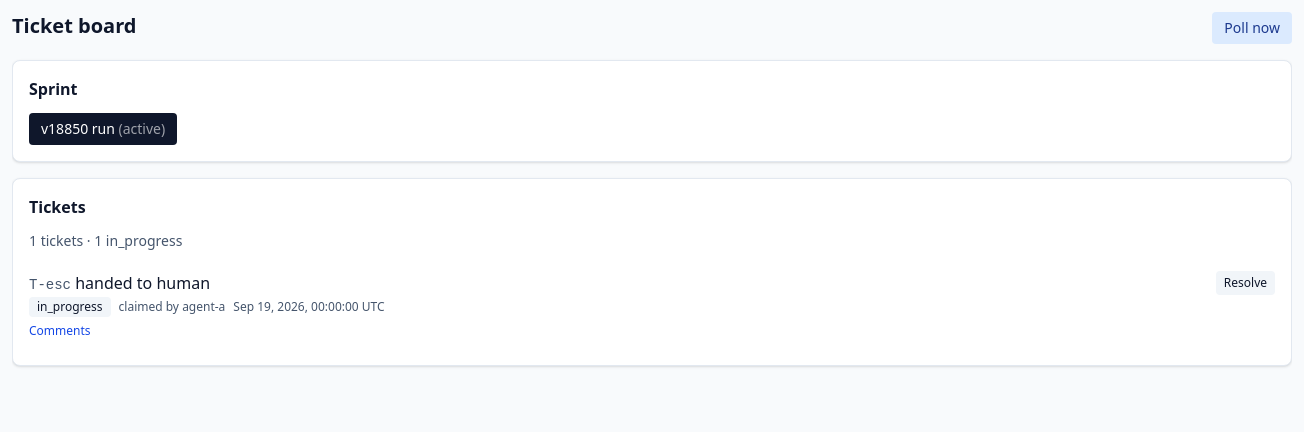
Scenario: BoardPage comments › shows the empty state for a ticket with no comments
The image size is (1304, 432).
Click the button "Comments": (60, 331) [29, 323, 91, 339]
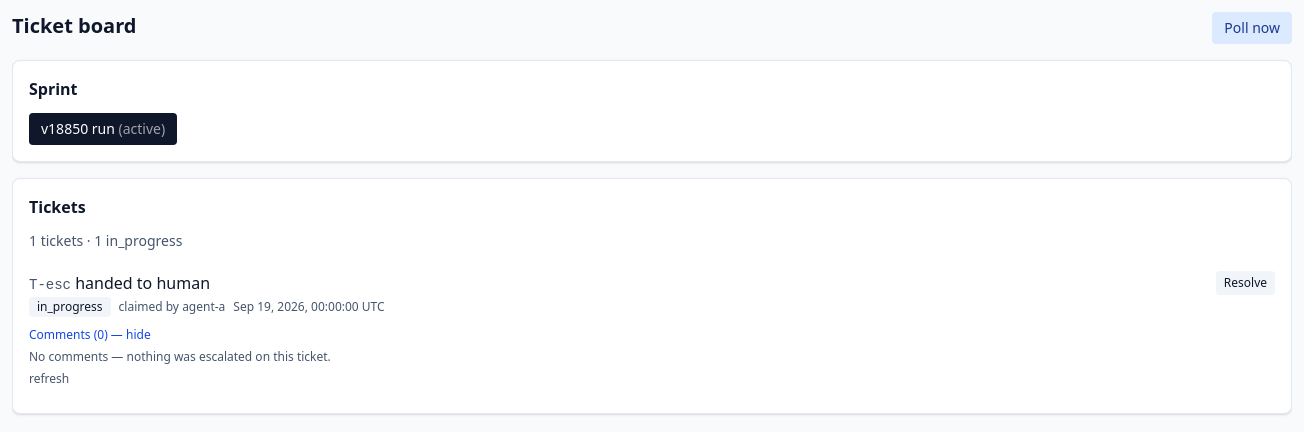
Now the text "No comments — nothing was escalated on this ticket." is shown, box [29, 348, 331, 365]
